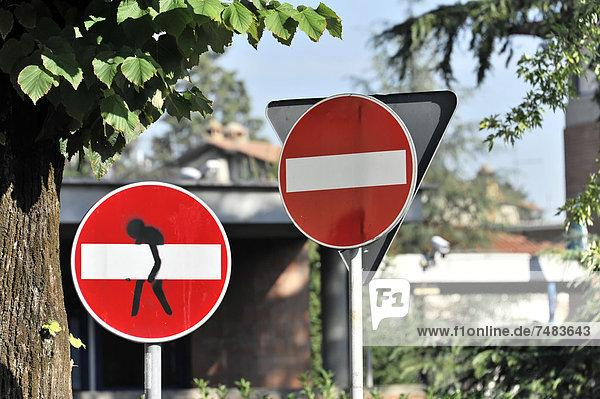traffic sign: (254, 81, 465, 398), (62, 162, 242, 381)
